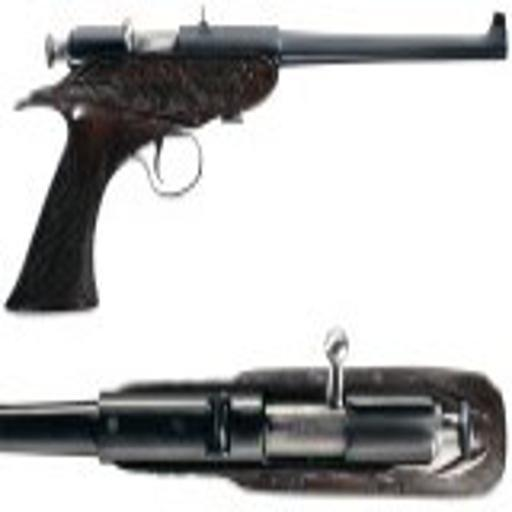Handgun: (2, 11, 507, 314), (2, 327, 504, 502)
